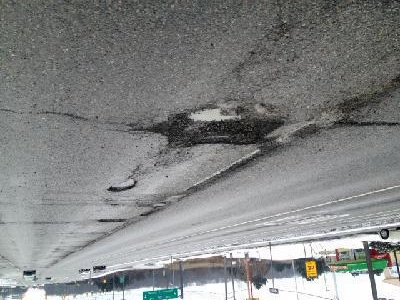pothole: (150, 106, 288, 150), (104, 175, 138, 194), (96, 218, 128, 224)
